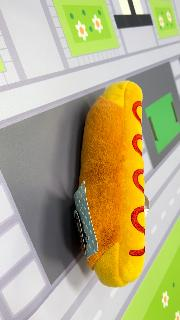hotdog: (73, 80, 147, 288)
